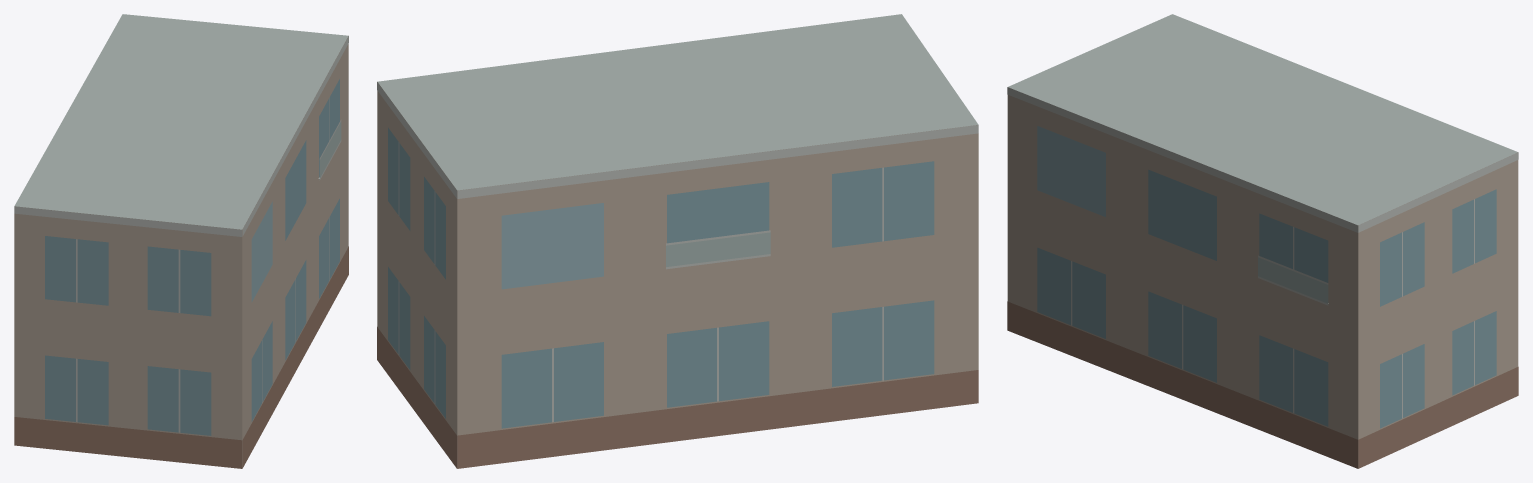
Rendered from survey-upis-32867239.glb.
The picture shows the model from 3 angles, left to right: view 1: azimuth 30°, elevation 25°; view 2: azimuth 150°, elevation 25°; view 3: azimuth 270°, elevation 25°; orthographic projection. The views are drawn at different scales.
Visible parts, largest first — view 1: survey-upis-32867239.tmp; view 2: survey-upis-32867239.tmp; view 3: survey-upis-32867239.tmp.
Part boxes in pixels (x1,y1,x2,y2): survey-upis-32867239.tmp: (14, 14, 348, 468); survey-upis-32867239.tmp: (377, 14, 978, 468); survey-upis-32867239.tmp: (1007, 14, 1518, 468).
Bounding box in the file's own units: 14.72 × 7.9 × 15.03.
